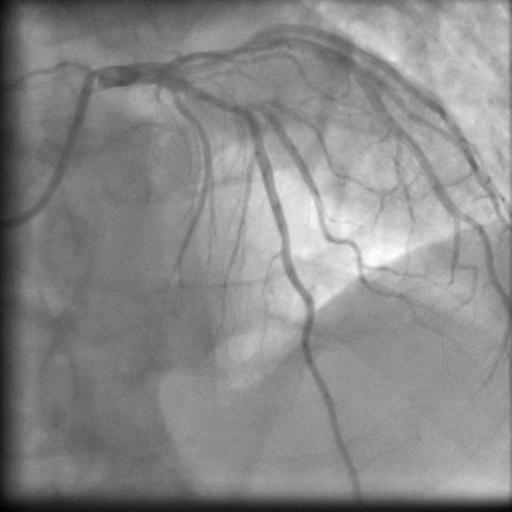Stenosis: (189, 81, 244, 114)
